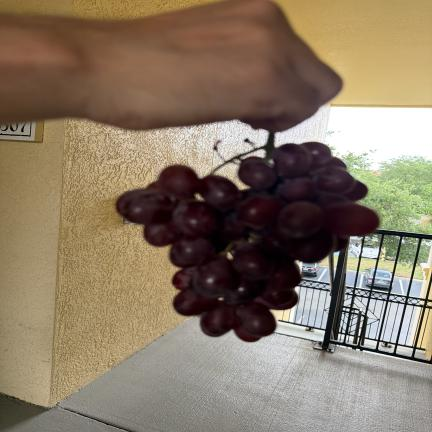grape_cluster: (116, 134, 379, 342)
